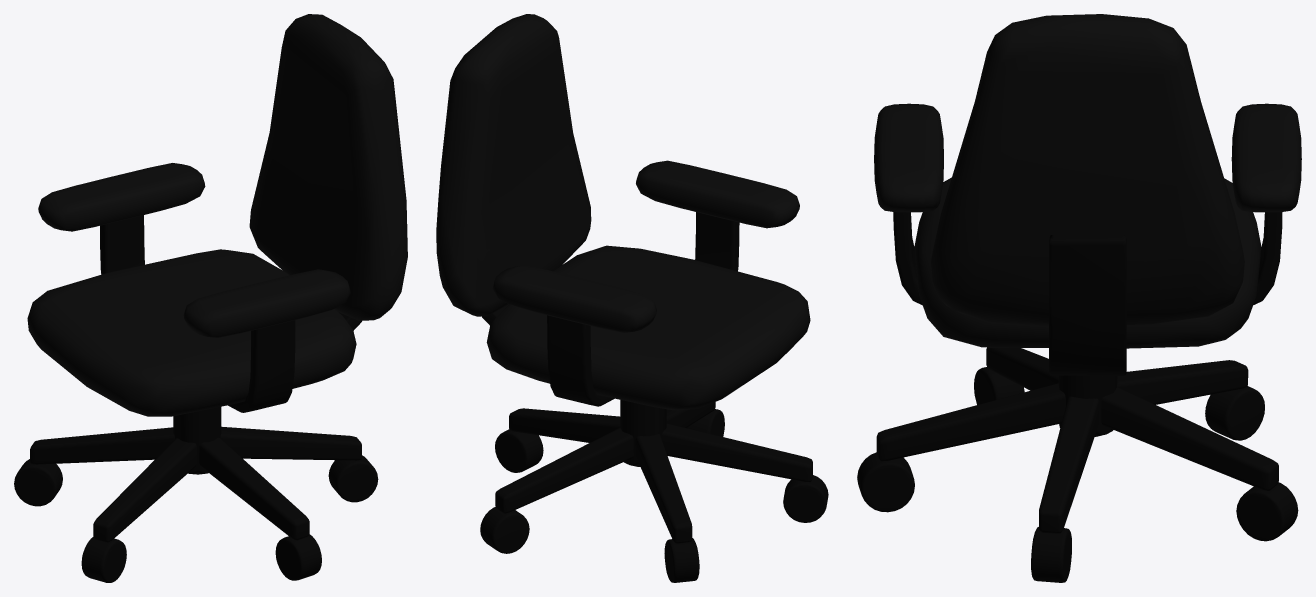
Rendered from office_chair_leather_black.fbx.
3 renders of one model, left to right at view 1: azimuth 30°, elevation 25°; view 2: azimuth 150°, elevation 25°; view 3: azimuth 270°, elevation 25°, orthographic. The views are drawn at different scales.
Parts seen in each view (by area): view 1: office_chair_leather_black; view 2: office_chair_leather_black; view 3: office_chair_leather_black.
Part boxes in pixels (left/top/right/bottom): office_chair_leather_black: left=14, top=14, right=407, bottom=582; office_chair_leather_black: left=436, top=14, right=828, bottom=582; office_chair_leather_black: left=857, top=14, right=1301, bottom=582.
Size of the model in its own units: 76.26 by 103 by 73.42.
1 material, 1 textured.
